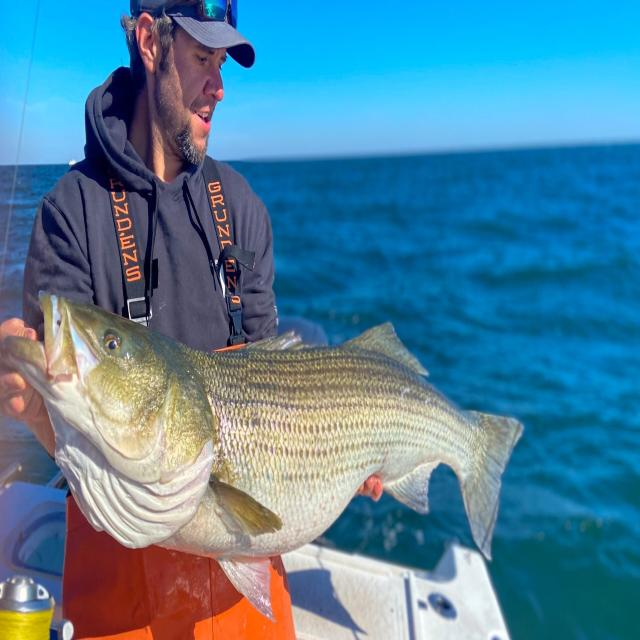Bass - Striped: (0, 293, 523, 618)
